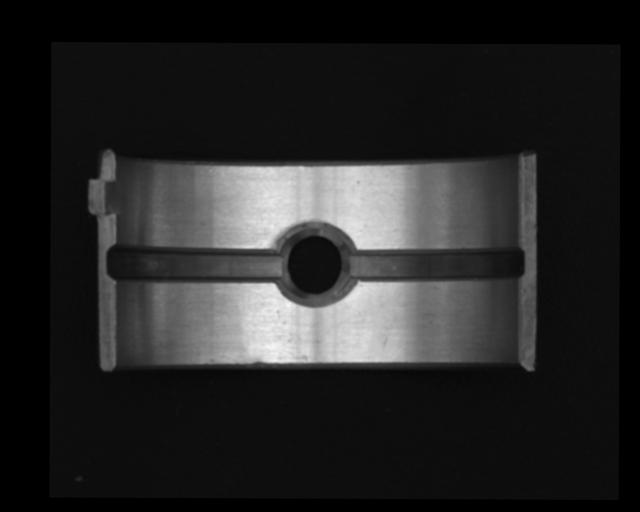gap: (343, 243, 526, 283), (106, 245, 283, 284)
hole: (277, 223, 354, 305)
